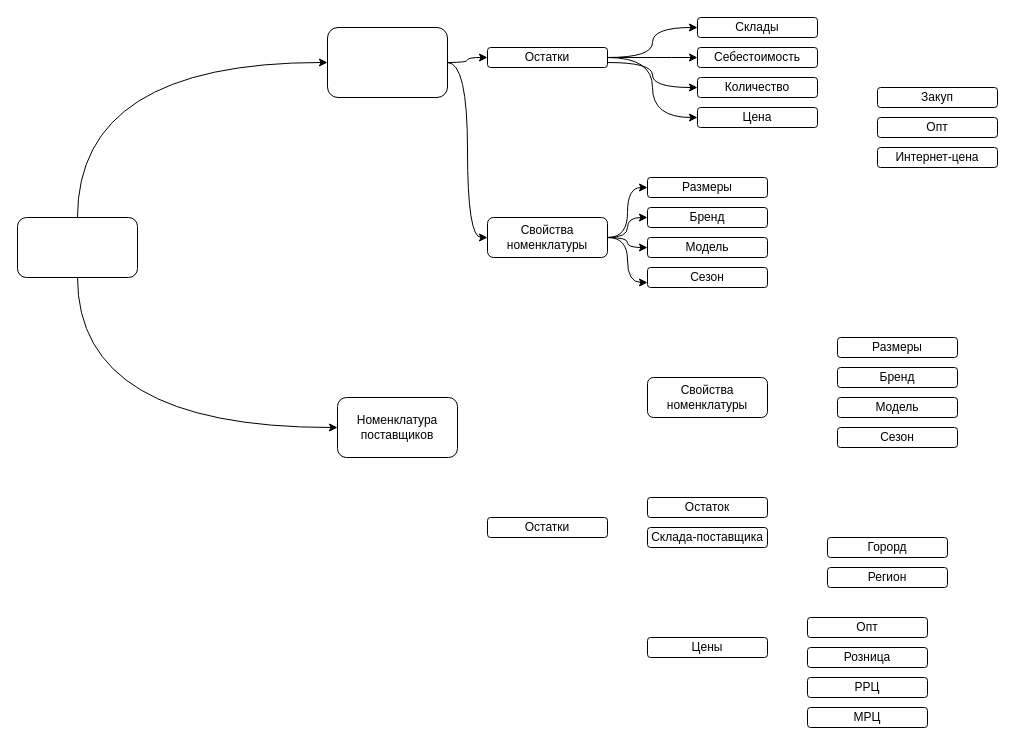
Image size: 1015x745. Some labels were removed from this diagram. Each missing label, with the centre of its shape:
"Номенклатура" goes at point (387, 62).
"Помощник закупок" goes at point (77, 247).
